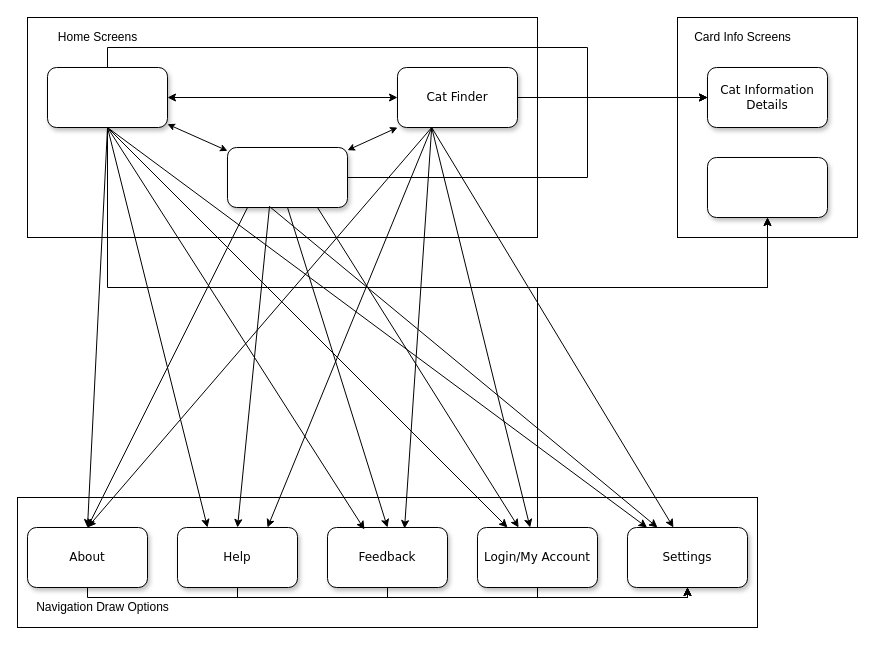
Image size: 875x645. Some labels were removed from this diagram. The shapes that lost their labels are listed below. From the top down, each one's centre as x and y in pixels, then its label:
At [108,98]: "Home".
At [288,178]: "Saved Cats".
At [768,188]: "Adoption Status Details".
